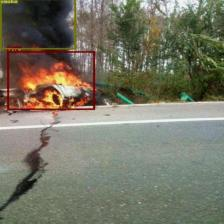fire: (7, 51, 95, 110)
smoke: (0, 0, 75, 49)
